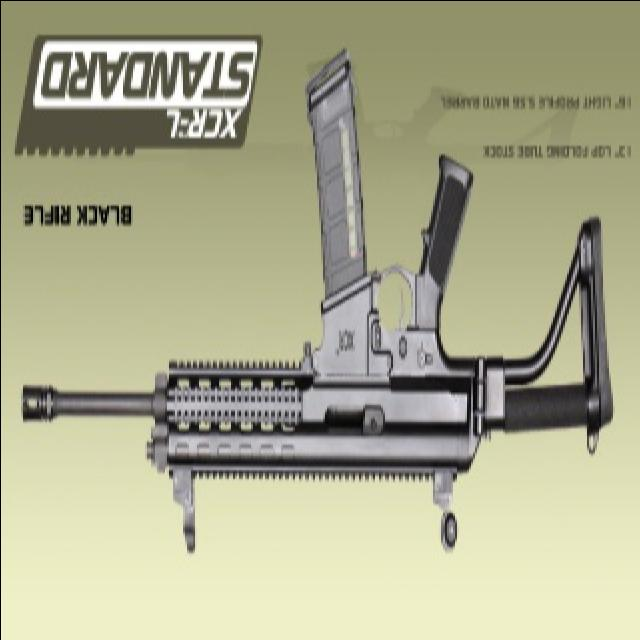rifle: (43, 52, 621, 564)
